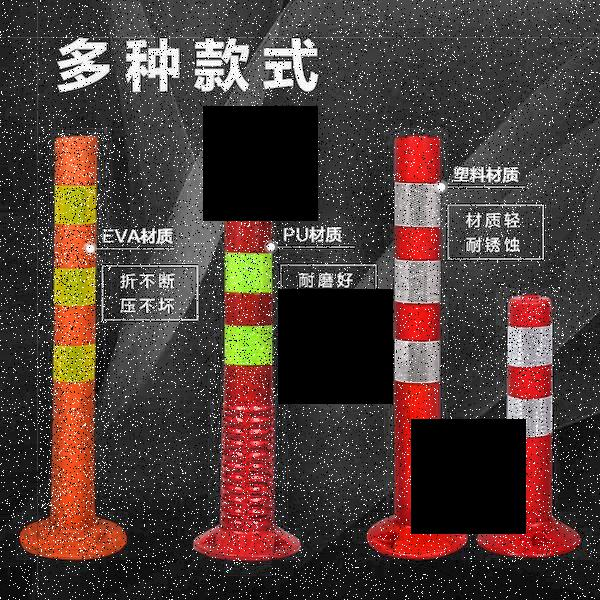bench: (210, 126, 286, 556), (38, 132, 112, 553), (381, 126, 450, 556), (499, 284, 561, 565)
